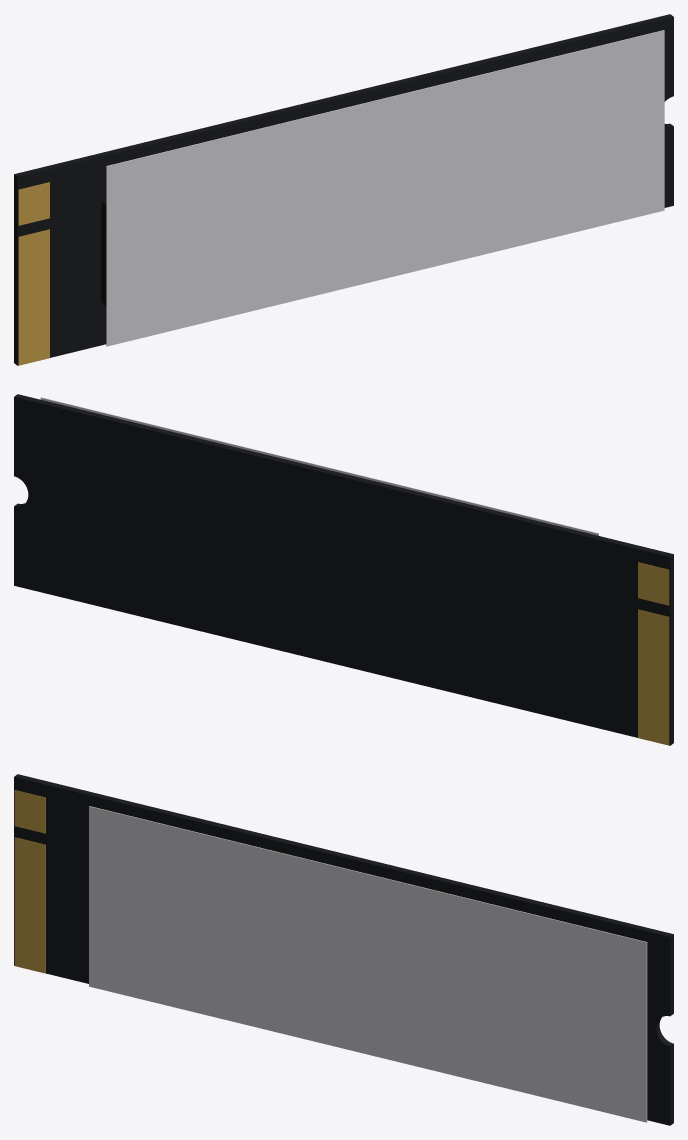
The picture shows the model from 3 angles, top to bottom: view 1: azimuth 30°, elevation 25°; view 2: azimuth 150°, elevation 25°; view 3: azimuth 330°, elevation 25°; orthographic projection.
Visible parts, largest first — view 1: SSD_Label, SSD_PCB, SSD_Connector, SSD_Controller; view 2: SSD_PCB, SSD_Connector, SSD_Label; view 3: SSD_Label, SSD_PCB, SSD_Connector.
Part boxes in pixels (x1,y1,x2,y2): SSD_Label: (106,30,664,346); SSD_PCB: (14,14,673,365); SSD_Connector: (18,182,49,365); SSD_Controller: (101,200,106,305); SSD_PCB: (14,394,673,745); SSD_Connector: (638,562,669,745); SSD_Label: (40,397,598,535); SSD_Label: (89,806,647,1122); SSD_PCB: (14,774,673,1125); SSD_Connector: (14,790,45,973).
Bounding box in the file's own units: 0.08 × 0.022 × 0.0023.
